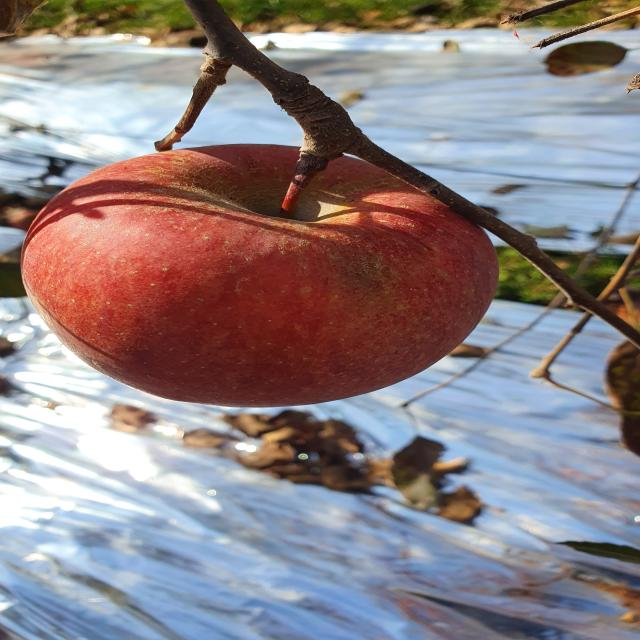fresh: (13, 138, 509, 412)
